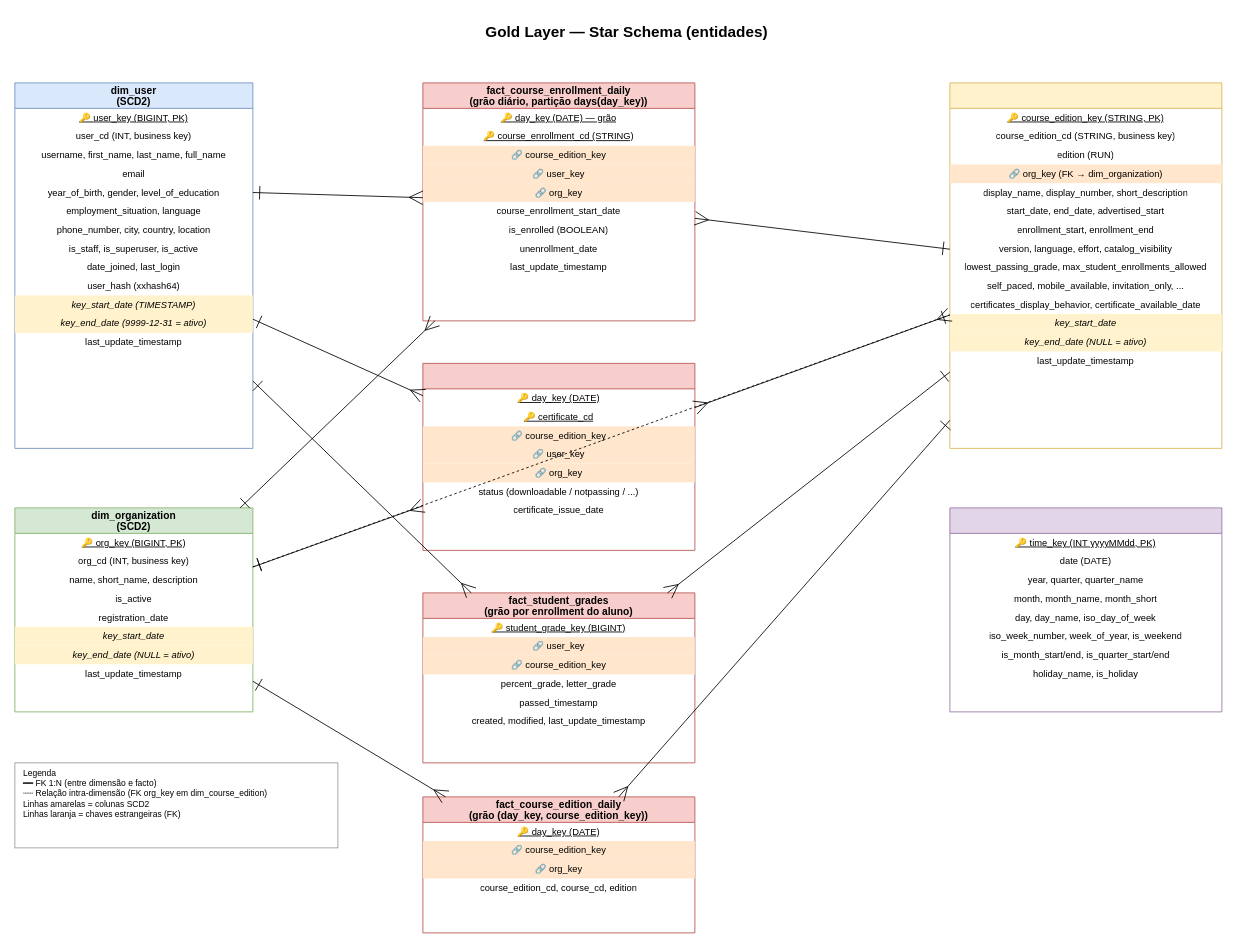
The diagram is 1237 pixels wide and 948 high, and some of its shapes have lost their labels. The box of each missing label's shape, as (x1, y1, x2, y2) in pixels:
dim_course_edition (SCD2): (949, 82, 1222, 448)
dim_time (estática 1900–2100): (949, 507, 1222, 712)
fact_certificate_daily (grão por dia de emissão): (422, 363, 695, 550)
